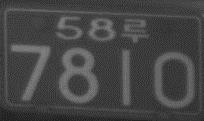0: (152, 51, 196, 109)
1: (110, 49, 144, 106)
5: (54, 15, 84, 40)
7: (9, 43, 51, 102)
8: (57, 45, 100, 104), (88, 16, 116, 42)
루: (121, 17, 149, 43)
